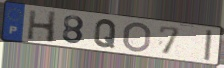7: (157, 25, 182, 56)
8: (62, 15, 86, 45)
H: (26, 9, 59, 45)
I: (203, 29, 214, 62)
O: (121, 21, 153, 54)
Q: (92, 18, 118, 50)
